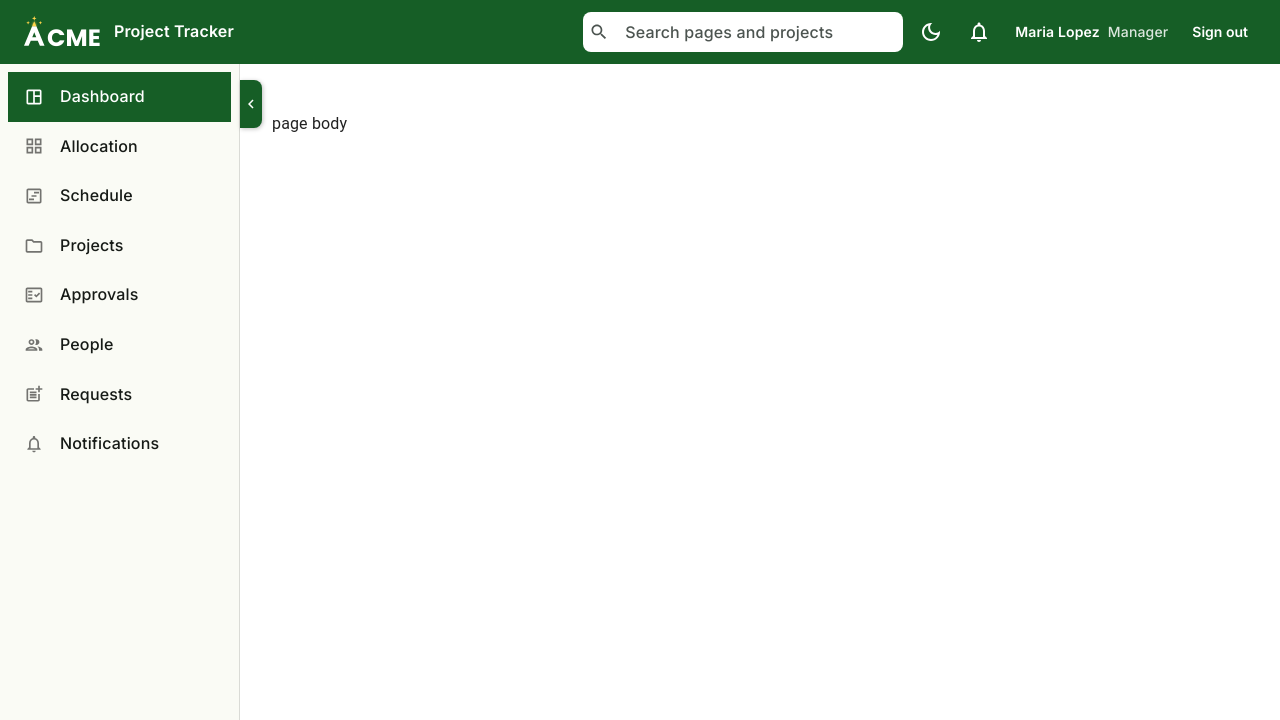
Test: AppLayout › gives the icon-only button {} a tooltip
The width and height of the screenshot is (1280, 720).
Hover over the link named "notifications, no unread" at (979, 32), box [967,20,991,44]
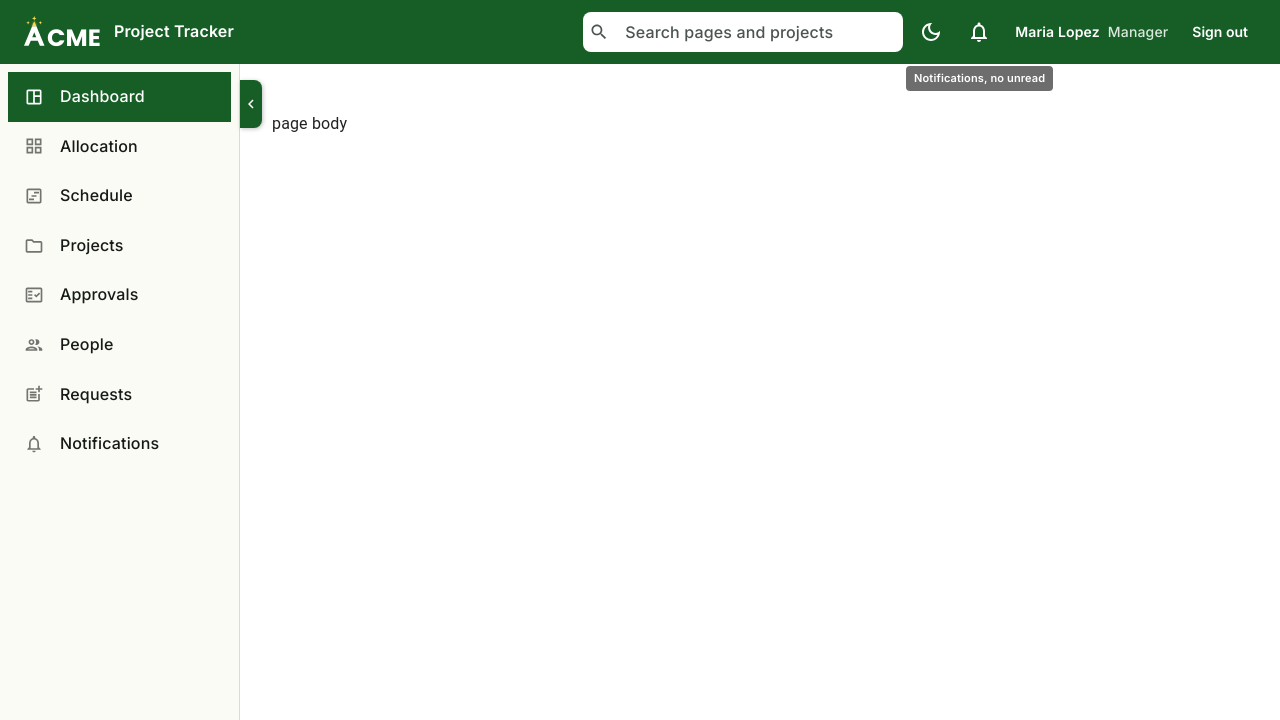
Check: the tooltip reads "Notifications, no unread", box [914,71,1045,85]
